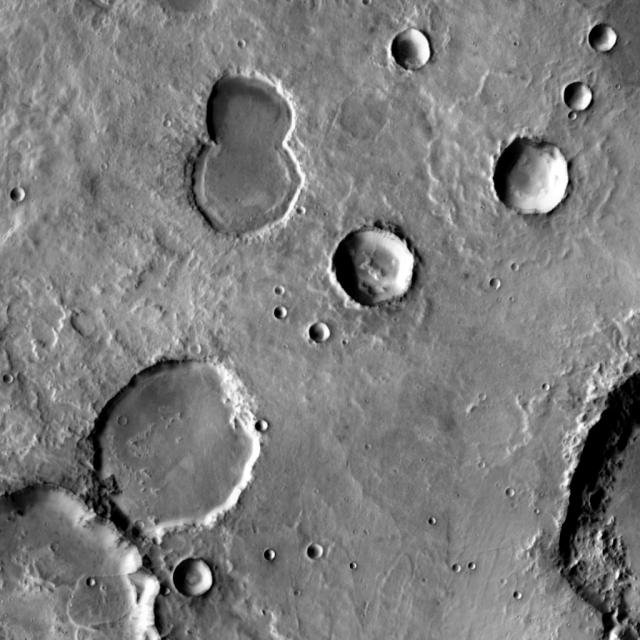crater: (90, 361, 264, 534), (84, 85, 255, 256), (0, 487, 161, 640), (566, 367, 640, 640), (188, 124, 304, 238), (205, 70, 297, 163), (334, 226, 415, 306), (493, 139, 570, 215), (336, 89, 389, 142), (391, 30, 431, 70), (174, 560, 214, 599), (564, 83, 592, 111), (588, 24, 616, 52), (310, 323, 332, 345), (308, 543, 324, 559), (12, 187, 26, 201), (275, 306, 287, 319), (489, 276, 502, 288), (277, 68, 289, 80), (256, 421, 268, 432), (265, 550, 276, 561), (191, 344, 201, 354), (506, 486, 516, 496), (349, 560, 358, 570), (119, 416, 128, 426), (160, 587, 170, 596), (276, 286, 285, 295), (5, 373, 14, 382), (428, 517, 437, 526), (135, 520, 144, 529), (453, 564, 462, 572), (155, 536, 163, 544), (543, 382, 551, 390), (514, 590, 522, 598), (462, 554, 470, 562), (164, 120, 172, 128), (51, 542, 59, 550), (302, 44, 310, 52), (298, 207, 306, 214), (471, 385, 478, 393), (357, 435, 365, 442), (471, 454, 478, 462), (569, 112, 576, 119), (238, 40, 245, 47), (505, 255, 512, 262), (363, 0, 371, 5), (82, 570, 88, 576), (494, 572, 500, 578), (95, 156, 101, 162)
